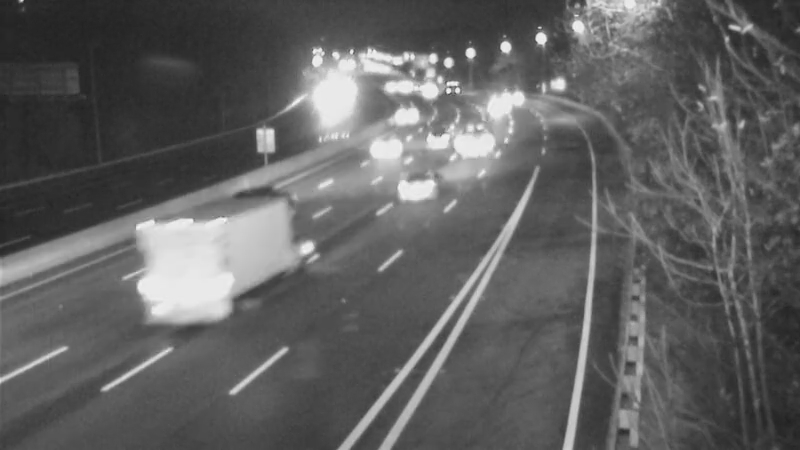vehicle: (379, 148, 459, 228), (227, 152, 307, 232), (136, 239, 216, 319), (476, 82, 526, 132), (379, 90, 429, 140), (411, 105, 461, 155), (447, 114, 497, 164), (363, 124, 413, 174)
